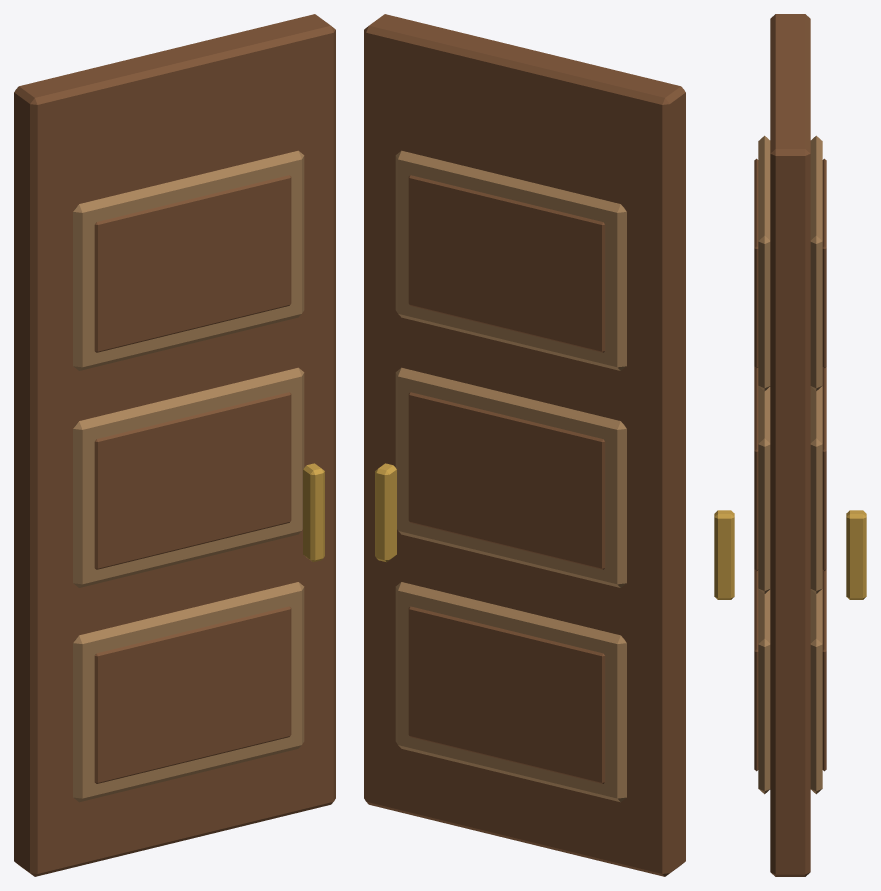
The model's file is door_hotel_panel.glb.
3 views of the same model, side by side, from view 1: azimuth 30°, elevation 25°; view 2: azimuth 150°, elevation 25°; view 3: azimuth 270°, elevation 25° (orthographic). The views are drawn at different scales.
Visible parts, largest first — view 1: door_hotel_panel; view 2: door_hotel_panel; view 3: door_hotel_panel.
Boxes of the visible parts, left/top/right/bottom form: door_hotel_panel: left=14, top=14, right=335, bottom=876; door_hotel_panel: left=364, top=14, right=685, bottom=876; door_hotel_panel: left=714, top=14, right=866, bottom=876.
Size of the model in its own units: 1.15 by 2.8 by 0.53.
